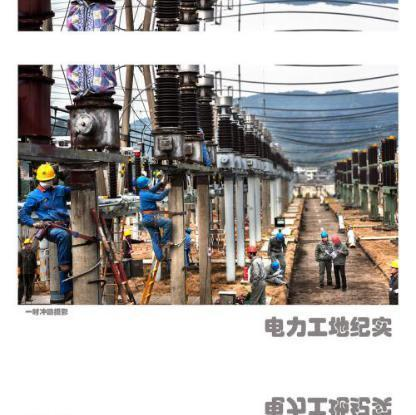helmet: (36, 164, 57, 183), (136, 175, 151, 190), (245, 244, 261, 255), (268, 260, 281, 270), (275, 232, 286, 242), (388, 259, 398, 270), (330, 236, 342, 245), (320, 229, 329, 238)
